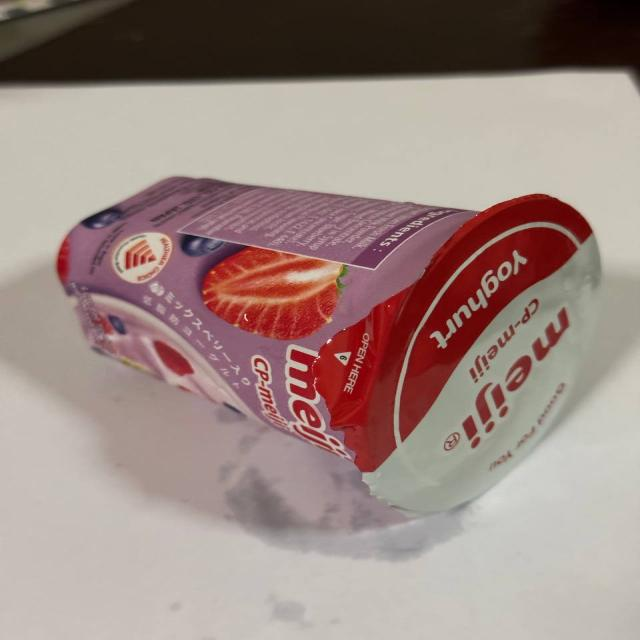yogurt: (47, 165, 613, 522)
